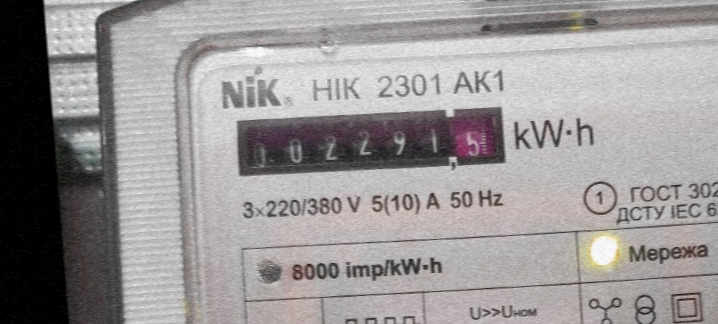0: (248, 136, 268, 167), (286, 134, 304, 164)
1: (425, 122, 441, 157)
2: (321, 131, 339, 161), (356, 126, 372, 156)
5: (463, 126, 481, 157)
9: (390, 126, 408, 157)
screen: (229, 93, 511, 190)
